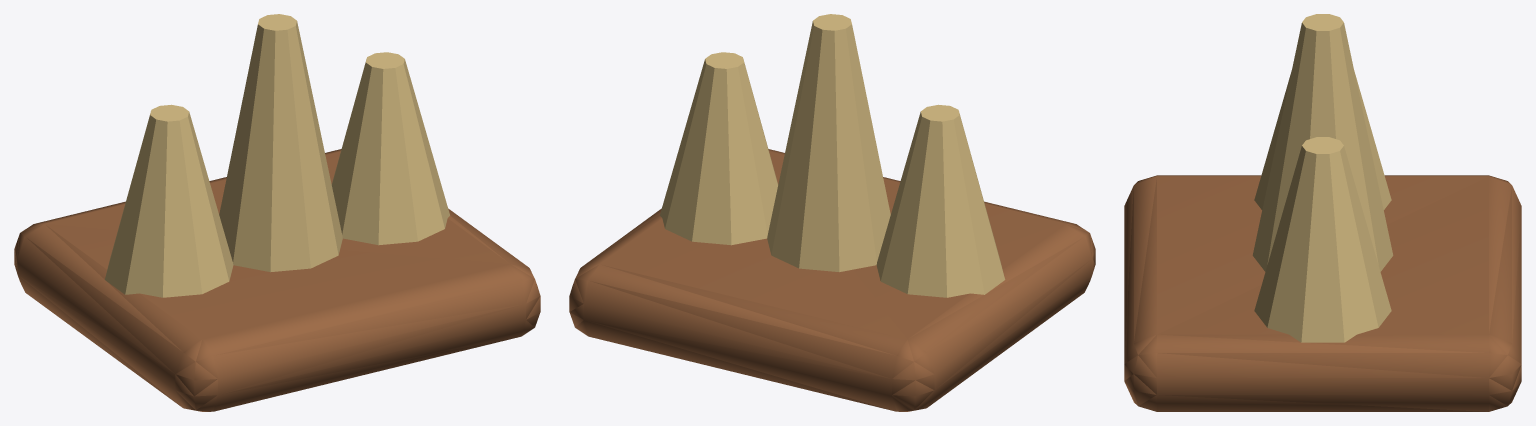
The model's file is DW_SpikeHedge.fbx.
3 renders of one model, left to right at view 1: azimuth 30°, elevation 25°; view 2: azimuth 150°, elevation 25°; view 3: azimuth 270°, elevation 25°, orthographic. The views are drawn at different scales.
Parts seen in each view (by area): view 1: SpikeHedge; view 2: SpikeHedge; view 3: SpikeHedge.
Boxes of the visible parts, box(x1,y1,x2,y2) form: SpikeHedge: box(14, 14, 540, 411); SpikeHedge: box(569, 14, 1095, 411); SpikeHedge: box(1124, 14, 1521, 411).
Bounding box in the file's own units: 0.94 × 0.73 × 0.85.
